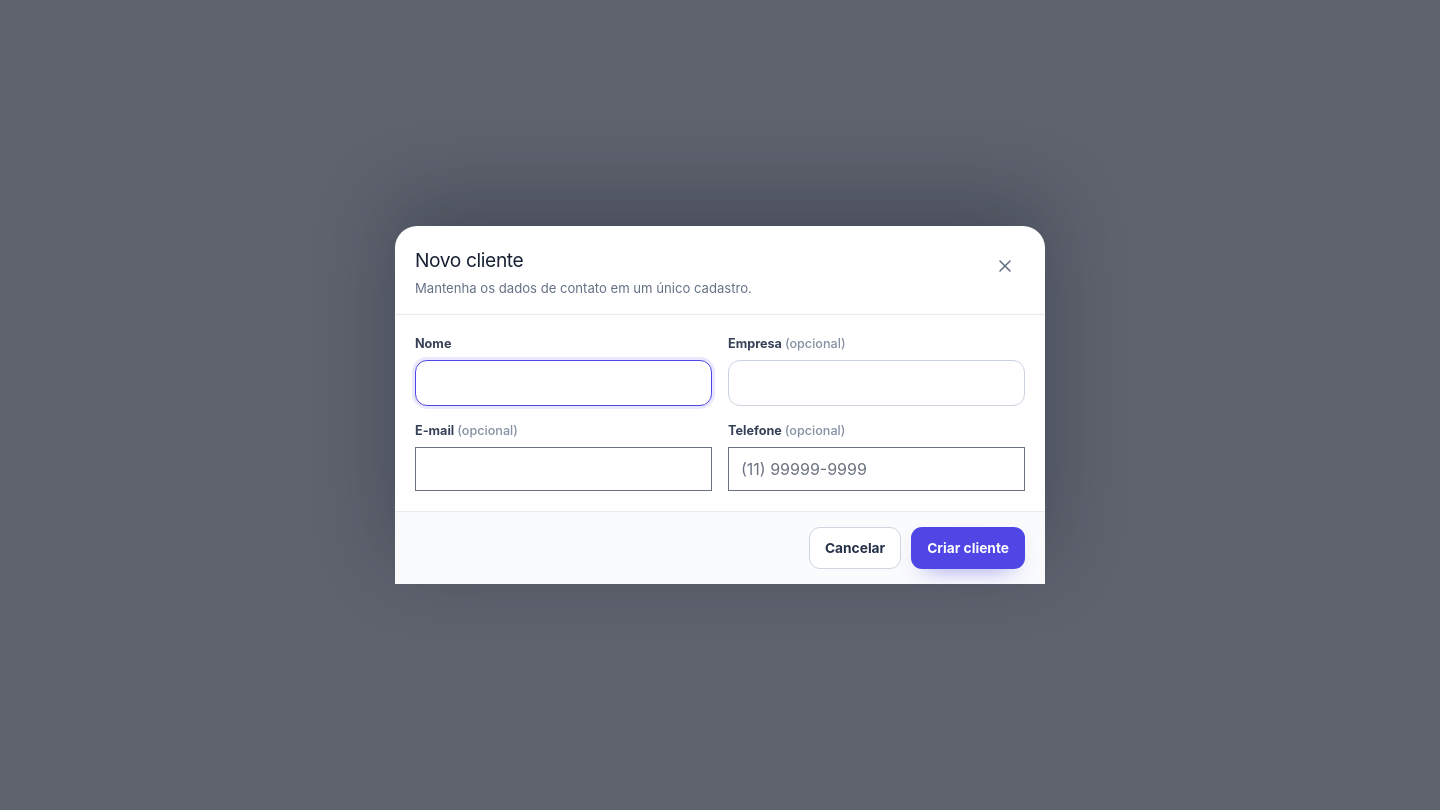
ClienteFormDialog › mantém o diálogo aberto quando a API falha
This screenshot has width=1440, height=810.
Type "Ana" into the field labelled "Nome" at (564, 383), box [415, 360, 712, 406]
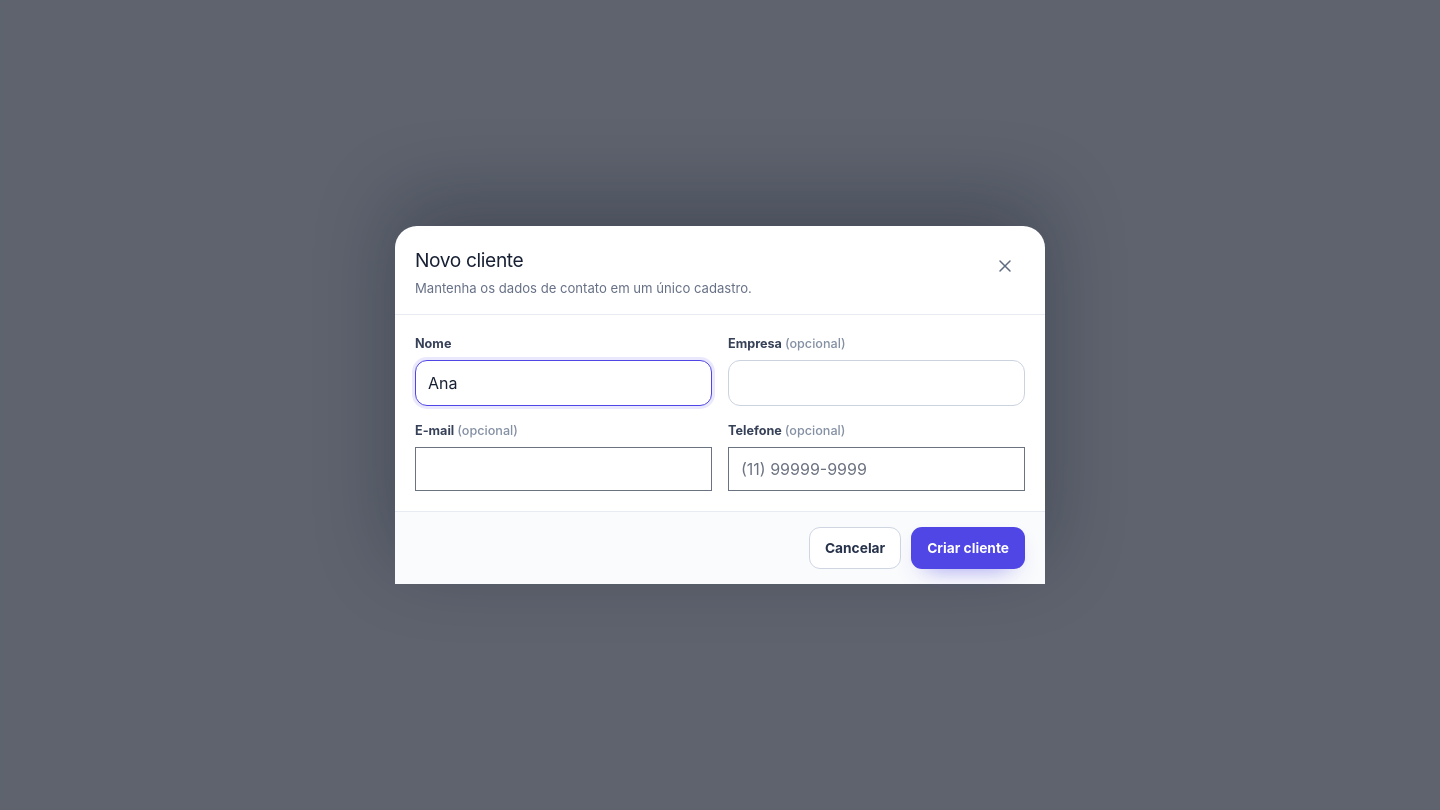
Submit the form with id "cliente-form", box [415, 335, 1025, 491]
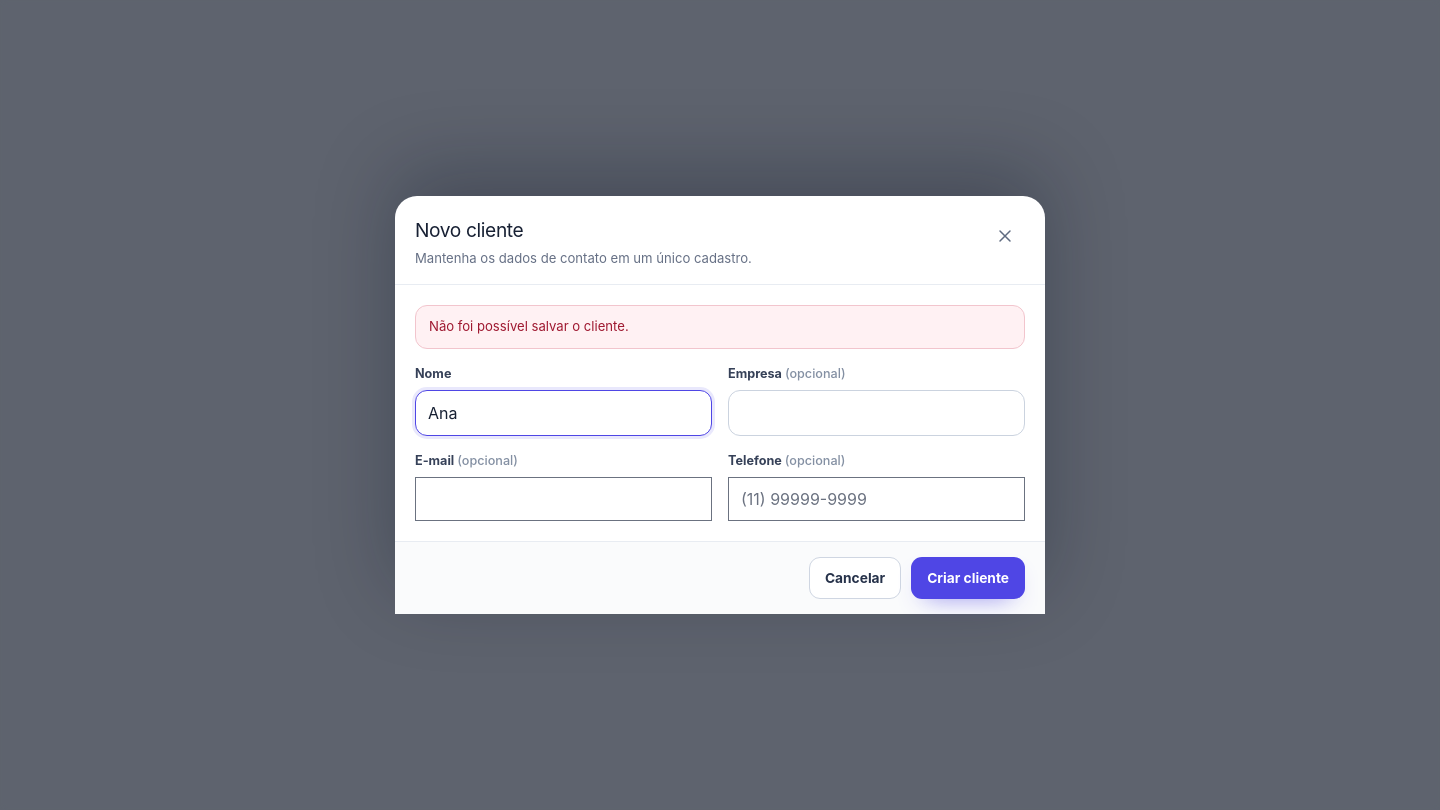
Result: the text "Não foi possível salvar o cliente." is shown at [415, 305, 1025, 349]
